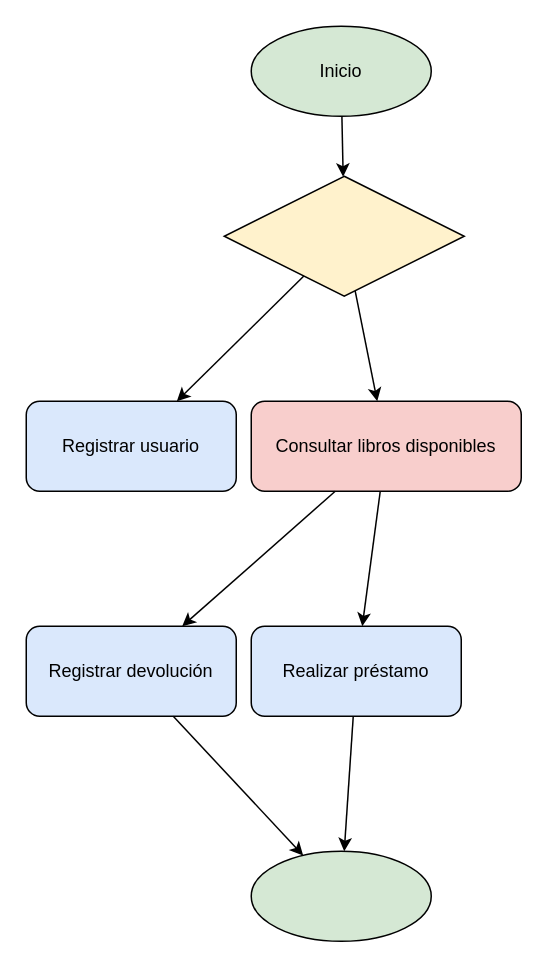
This 548x968 diagram has some shape labels left out. Each missing label, with the centre of its shape:
"Fin" goes at [340,895].
"¿Usuario existente?" goes at [343,235].
